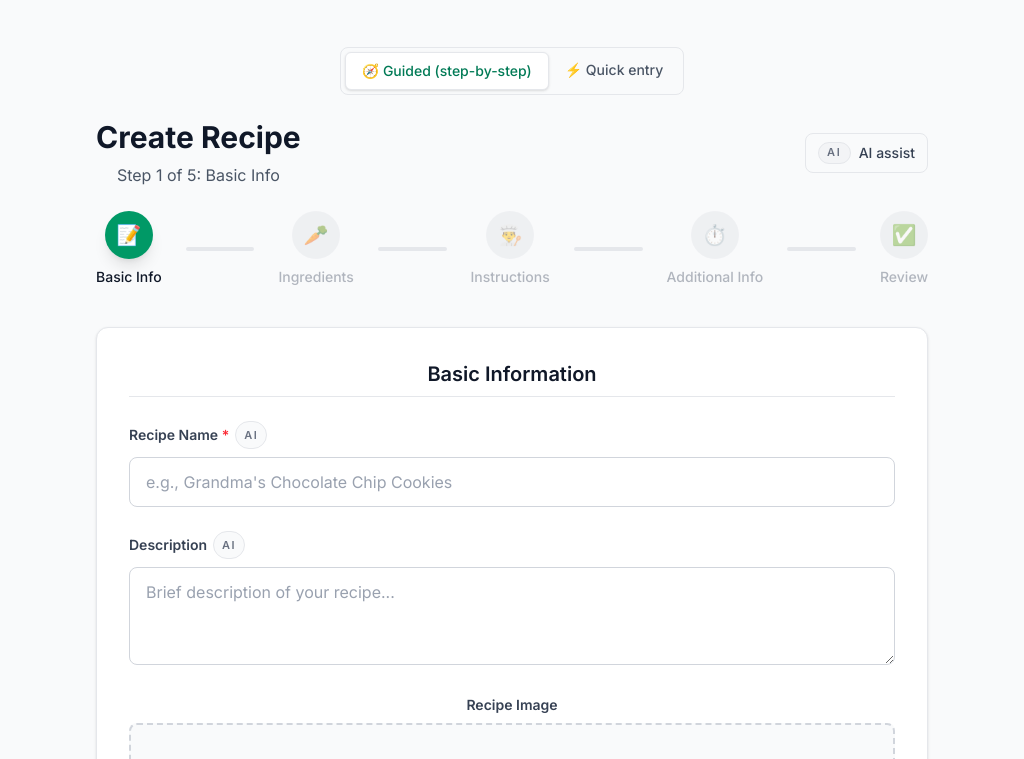
Test: CreateRecipe - Multi-Step Wizard › Step Navigation › should show Save Recipe button only on step 5
Expected: the button "Save Recipe" is not shown
Note: Fill required fields and navigate to step 5
In the field with placeholder "e.g., Grandma's Chocolate Chip Cookies": (512, 482) [129,457,895,507], type "Test Recipe"
(page scrolled)
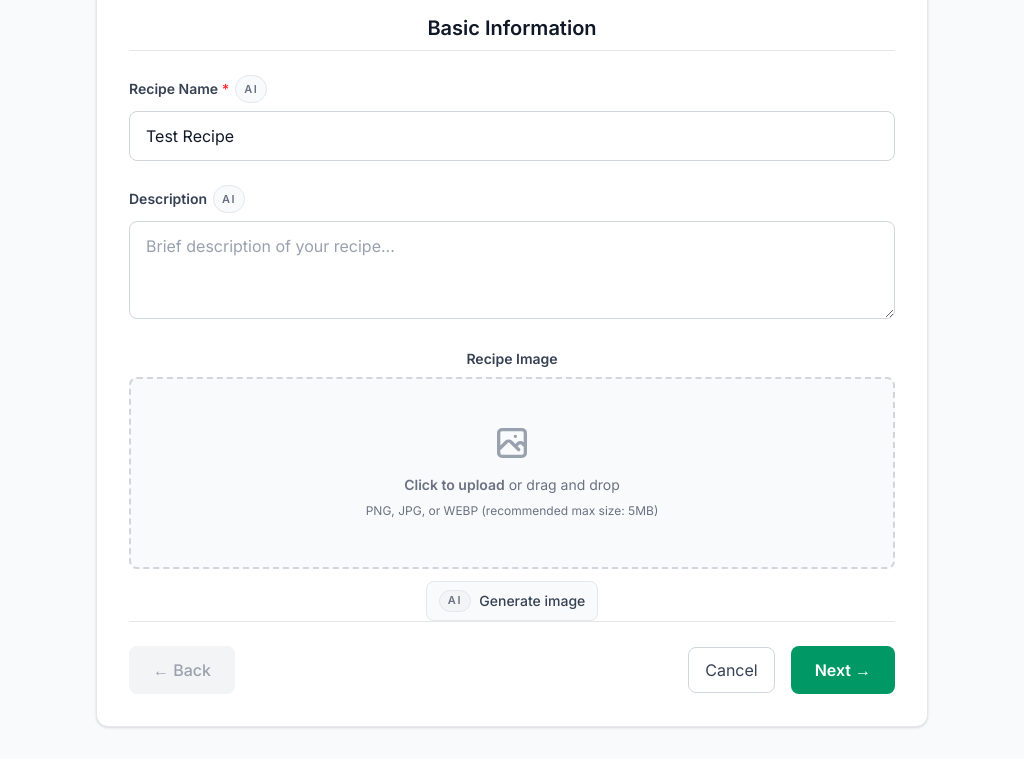
Click the button "Next →": click(843, 670) [791,646,895,694]
(page scrolled)
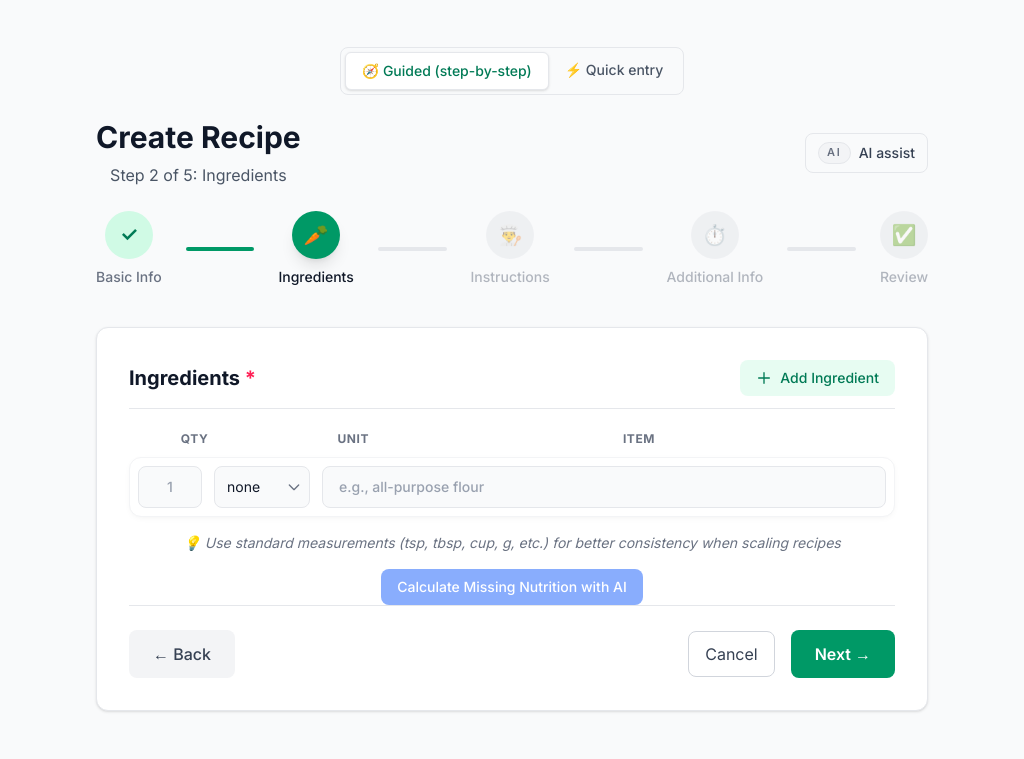
In the field with placeholder "e.g., all-purpose flour": (604, 487) [322,466,886,508], type "flour"
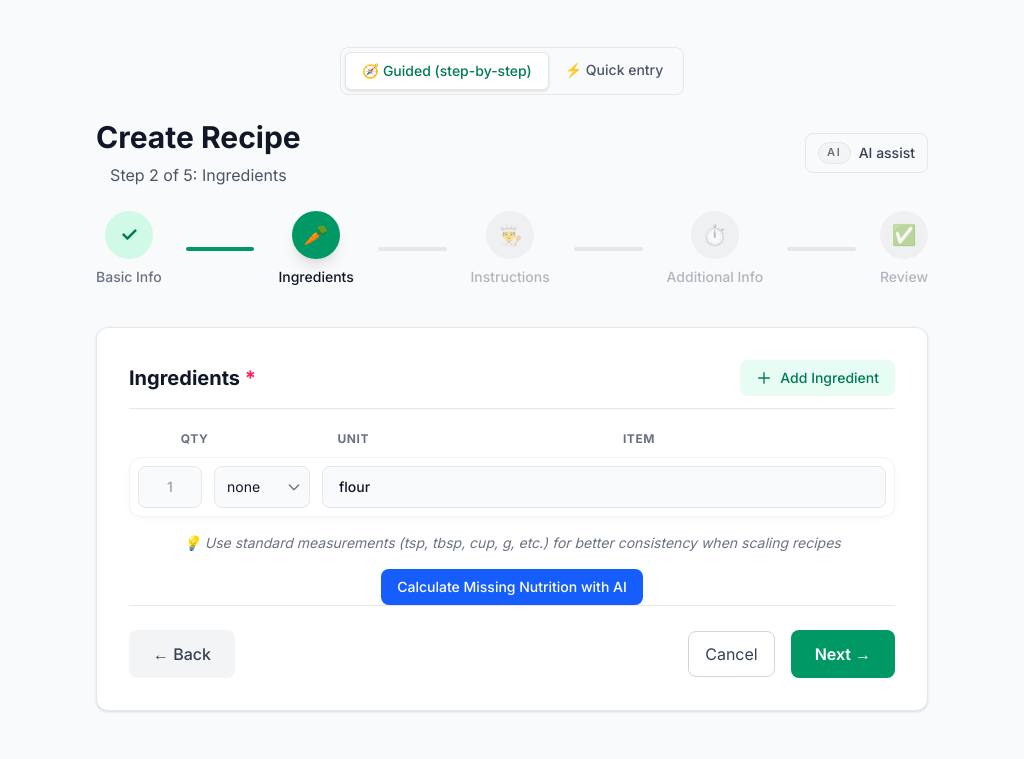
Click the button "Next →": click(843, 654) [791,630,895,678]
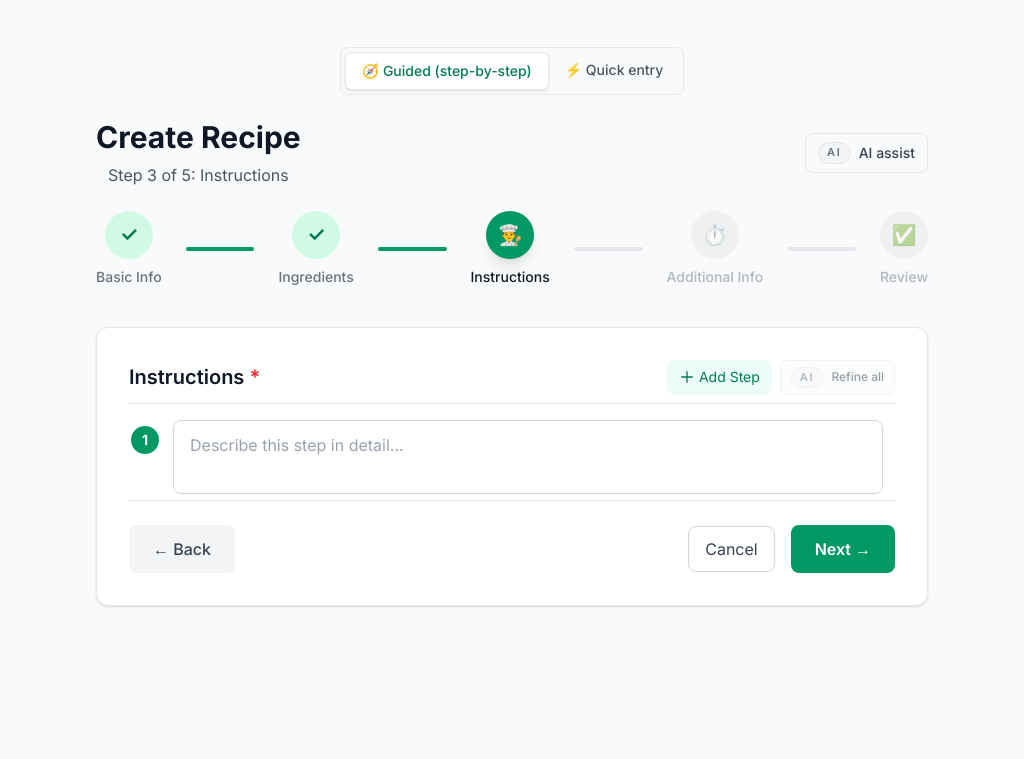
In the text box with placeholder "Describe this step in detail...": (528, 457) [173,420,883,494], type "Mix ingredients"
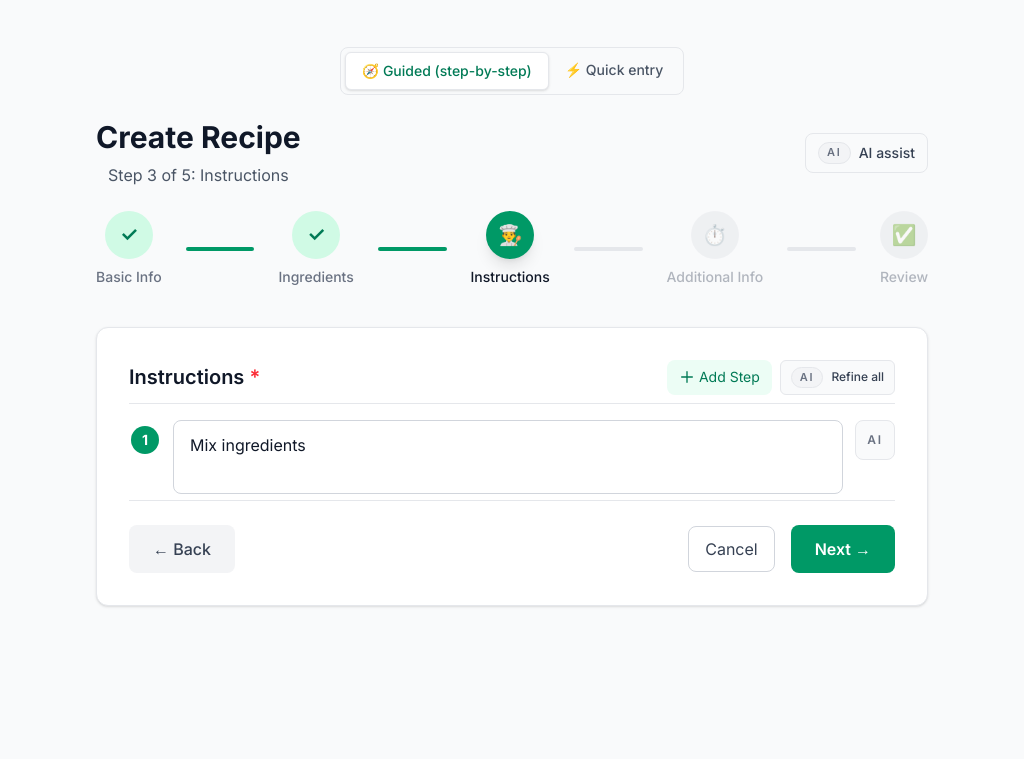
Click the button "✅ Review": click(904, 249) [880,211,928,287]
(page scrolled)
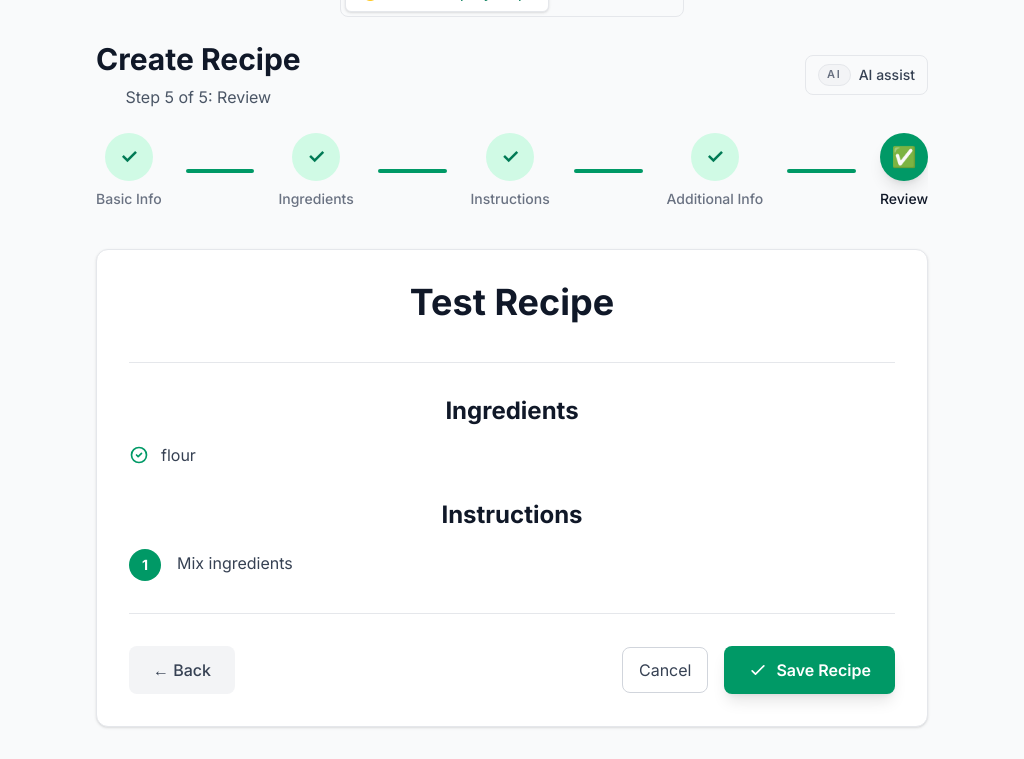
Expected: the button "Next →" is gone
Expected: the button "Save Recipe" is shown, [724,646,895,694]
